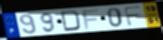0: (106, 7, 123, 28)
9: (18, 13, 38, 35), (40, 12, 57, 33)
D: (59, 9, 82, 33)
F: (122, 5, 144, 27), (81, 8, 101, 30)
